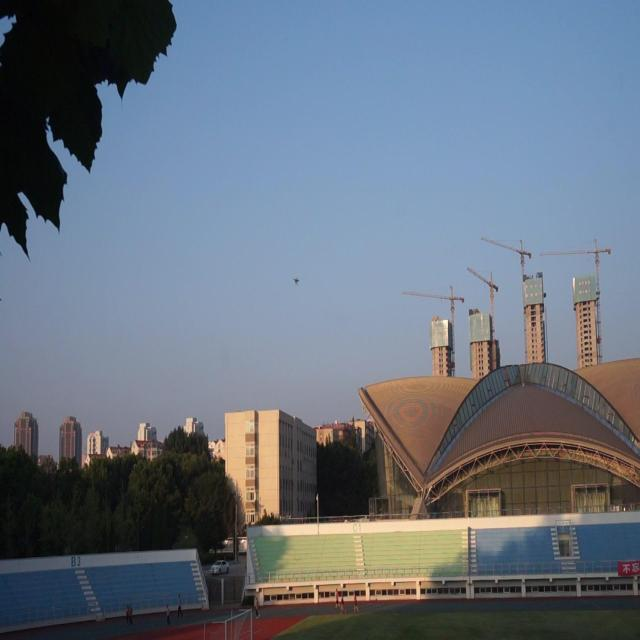drone: (292, 273, 302, 289)
